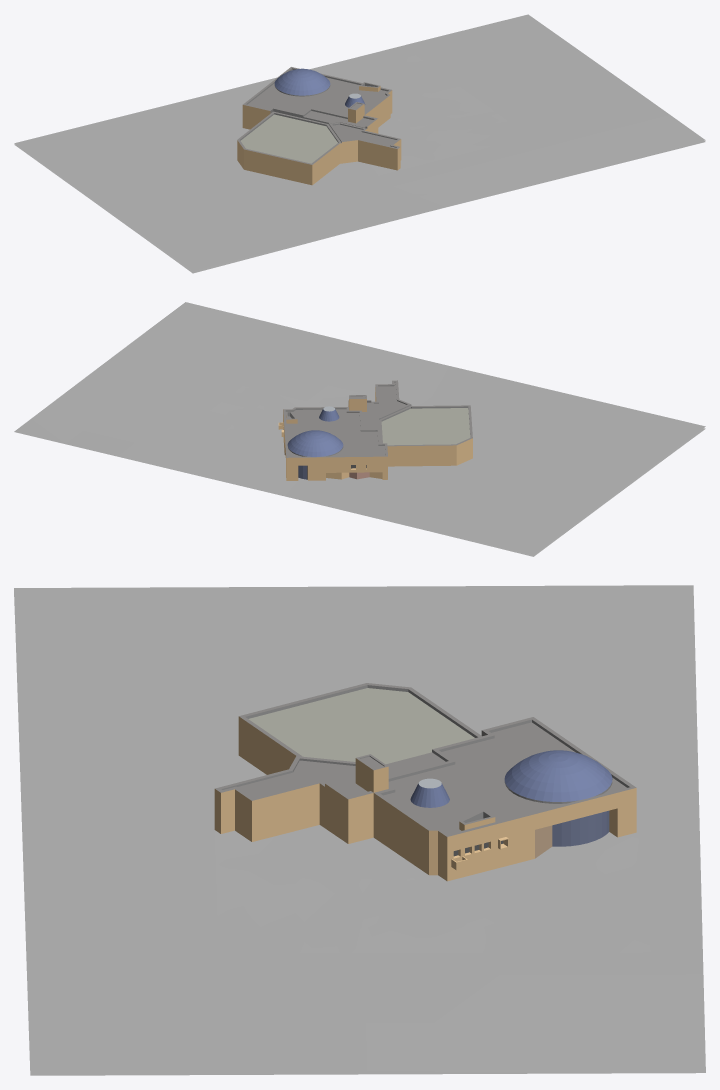
The picture shows the model from 3 angles, top to bottom: view 1: azimuth 30°, elevation 25°; view 2: azimuth 150°, elevation 25°; view 3: azimuth 270°, elevation 25°; orthographic projection. The views are drawn at different scales.
Visible parts, largest first — view 1: imagetostl_mesh401, imagetostl_mesh412, imagetostl_mesh540, imagetostl_mesh1074, imagetostl_mesh1027, imagetostl_mesh425, imagetostl_mesh1034, imagetostl_mesh481, imagetostl_mesh212, imagetostl_mesh234, imagetostl_mesh231, imagetostl_mesh219 (+72 smaller); view 2: imagetostl_mesh401, imagetostl_mesh412, imagetostl_mesh540, imagetostl_mesh465, imagetostl_mesh1086, imagetostl_mesh481, imagetostl_mesh425, imagetostl_mesh400, imagetostl_mesh360, imagetostl_mesh378, imagetostl_mesh379, imagetostl_mesh359 (+73 smaller); view 3: imagetostl_mesh401, imagetostl_mesh412, imagetostl_mesh540, imagetostl_mesh1089, imagetostl_mesh729, imagetostl_mesh419, imagetostl_mesh425, imagetostl_mesh481, imagetostl_mesh1034, imagetostl_mesh397, imagetostl_mesh400, imagetostl_mesh378 (+96 smaller).
Part boxes in pixels (box(x1,y1,x2,y2)): imagetostl_mesh401: box(14, 81, 705, 271); imagetostl_mesh412: box(241, 114, 337, 163); imagetostl_mesh540: box(248, 69, 387, 116); imagetostl_mesh1074: box(244, 149, 312, 185); imagetostl_mesh1027: box(358, 140, 397, 170); imagetostl_mesh425: box(333, 124, 396, 145); imagetostl_mesh1034: box(312, 144, 339, 184); imagetostl_mesh481: box(243, 67, 391, 117); imagetostl_mesh212: box(433, 180, 501, 193); imagetostl_mesh234: box(466, 154, 534, 167); imagetostl_mesh231: box(415, 180, 482, 193); imagetostl_mesh219: box(637, 140, 705, 153); imagetostl_mesh401: box(15, 366, 705, 555); imagetostl_mesh412: box(381, 408, 470, 445); imagetostl_mesh540: box(285, 409, 385, 456); imagetostl_mesh465: box(286, 456, 387, 480); imagetostl_mesh1086: box(387, 445, 456, 466); imagetostl_mesh481: box(283, 407, 387, 457); imagetostl_mesh425: box(374, 382, 406, 416); imagetostl_mesh400: box(14, 418, 65, 443); imagetostl_mesh360: box(49, 392, 99, 417); imagetostl_mesh378: box(83, 418, 134, 442); imagetostl_mesh379: box(49, 405, 99, 430); imagetostl_mesh359: box(66, 392, 117, 417); imagetostl_mesh401: box(14, 585, 705, 1075); imagetostl_mesh412: box(248, 688, 474, 764); imagetostl_mesh540: box(383, 722, 626, 833); imagetostl_mesh1089: box(447, 788, 636, 881); imagetostl_mesh729: box(252, 783, 319, 841); imagetostl_mesh419: box(373, 793, 428, 874); imagetostl_mesh425: box(237, 760, 355, 797); imagetostl_mesh481: box(374, 717, 636, 836); imagetostl_mesh1034: box(238, 716, 295, 774); imagetostl_mesh397: box(635, 974, 702, 1023); imagetostl_mesh400: box(638, 1023, 705, 1072); imagetostl_mesh378: box(569, 975, 636, 1023).
Bounding box in the file's own units: 14285 × 973 × 8516.
